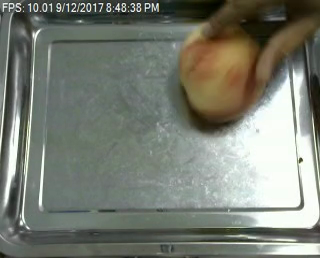Peach: (178, 21, 260, 120)
